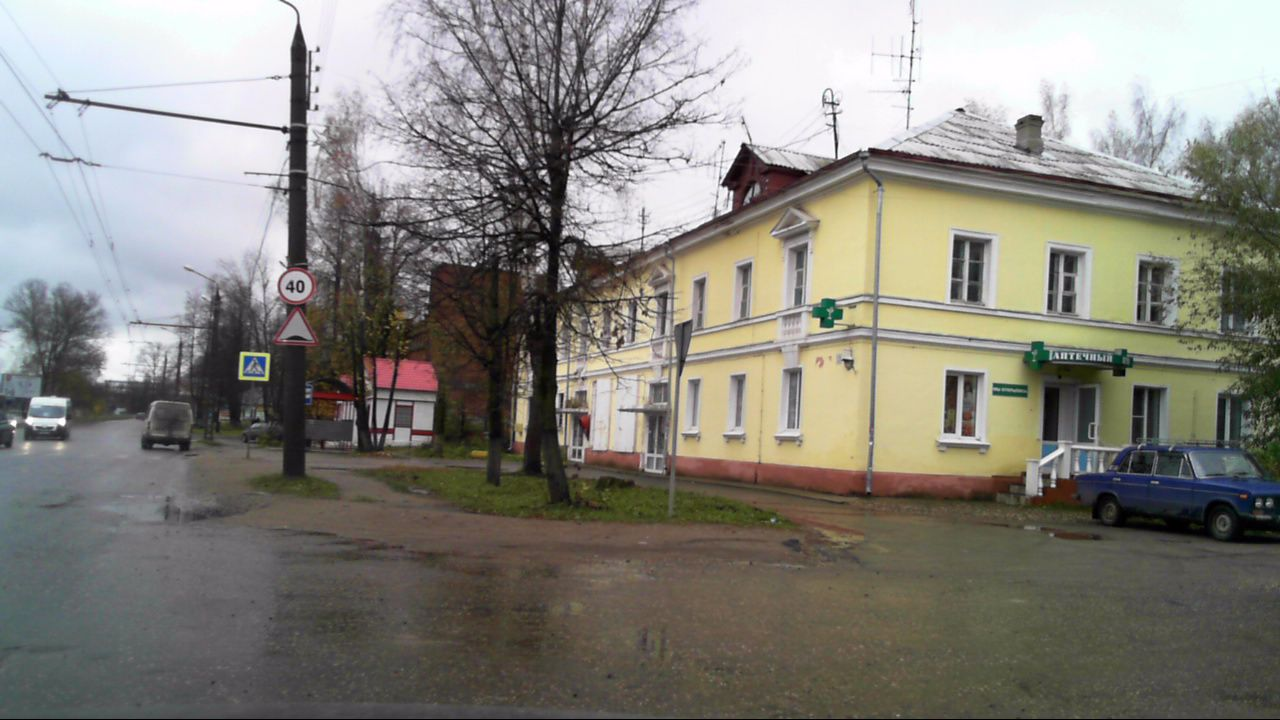speed_warning_40: (275, 267, 316, 305)
